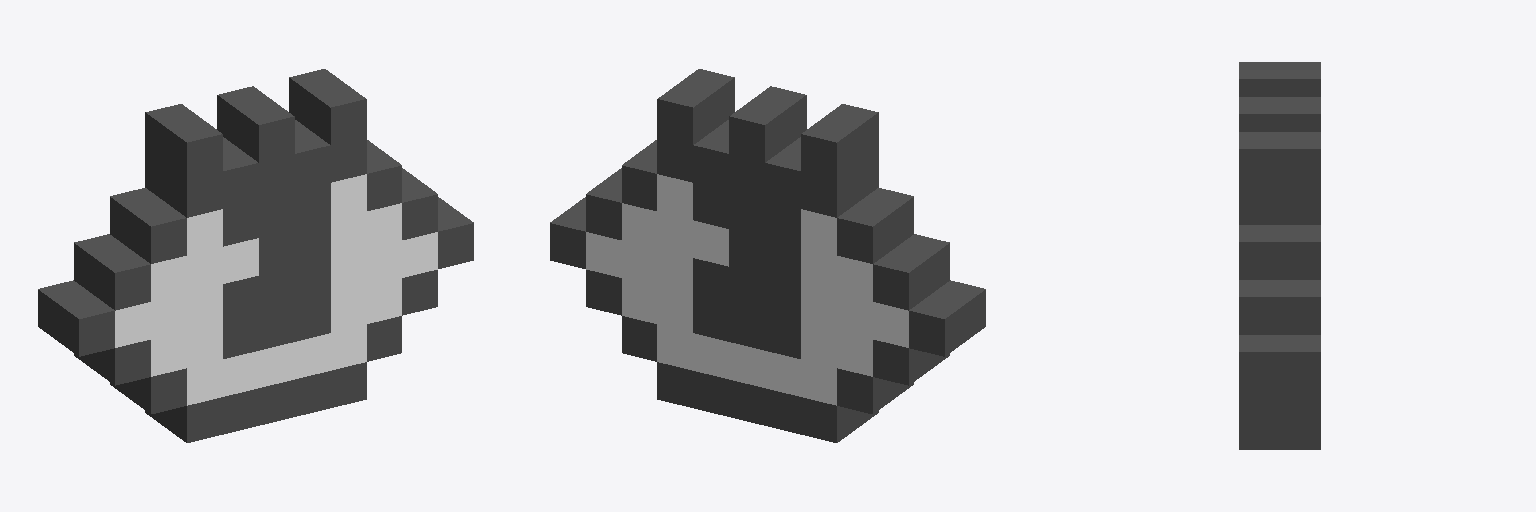
3 views of the same model, side by side, from view 1: azimuth 30°, elevation 25°; view 2: azimuth 150°, elevation 25°; view 3: azimuth 270°, elevation 25° (orthographic).
Parts seen in each view (by area): view 1: object 1; view 2: object 1; view 3: object 1.
Part boxes in pixels (bbox=[...]): object 1: bbox=[38, 69, 473, 442]; object 1: bbox=[550, 69, 985, 442]; object 1: bbox=[1239, 62, 1320, 449].
Size of the model in its own units: 1.1 by 0.8 by 0.2.
Materials: 1 (1 with a texture image).